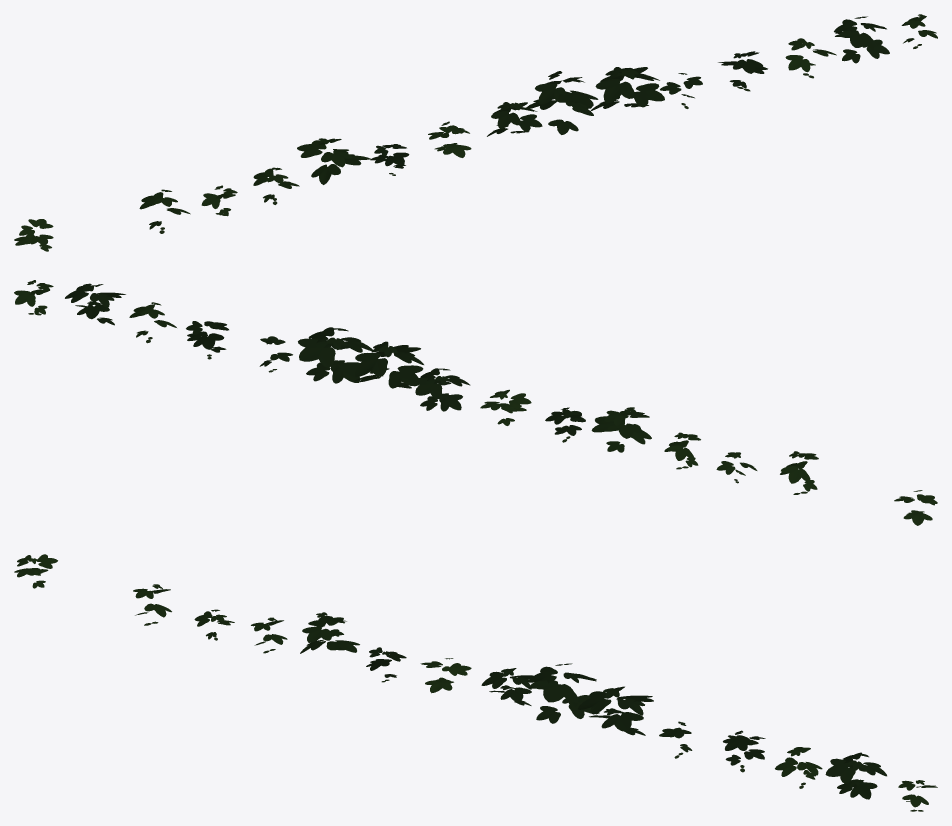
Rendered from ROW_06_SEG2_foliage.dae.
3 renders of one model, top to bottom at view 1: azimuth 30°, elevation 25°; view 2: azimuth 150°, elevation 25°; view 3: azimuth 330°, elevation 25°, orthographic.
Parts seen in each view (by area): view 1: ROW_06_SEG2_foliage; view 2: ROW_06_SEG2_foliage; view 3: ROW_06_SEG2_foliage.
Part boxes in pixels (x1=…): ROW_06_SEG2_foliage: x1=14, y1=14, x2=937, y2=251; ROW_06_SEG2_foliage: x1=14, y1=280, x2=937, y2=525; ROW_06_SEG2_foliage: x1=14, y1=554, x2=937, y2=811.
Size of the model in its own units: 4.74 by 0.3554 by 0.2896.
